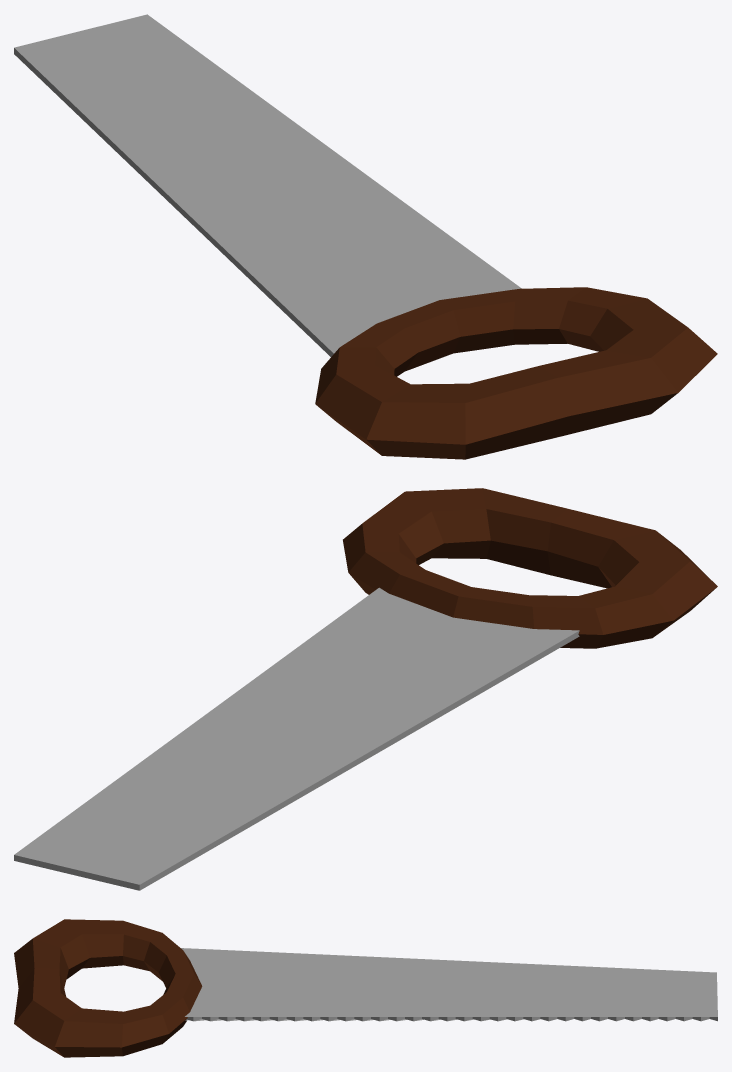
The model's file is HandSaw.fbx.
3 renders of one model, top to bottom at view 1: azimuth 30°, elevation 25°; view 2: azimuth 150°, elevation 25°; view 3: azimuth 270°, elevation 25°, orthographic. The views are drawn at different scales.
Parts seen in each view (by area): view 1: Cube; view 2: Cube; view 3: Cube.
Boxes of the visible parts, box(x1,y1,x2,y2) form: Cube: box(14, 14, 717, 459); Cube: box(14, 488, 717, 890); Cube: box(14, 919, 717, 1057).
Size of the model in its own units: 1.45 by 0.2313 by 3.65.
